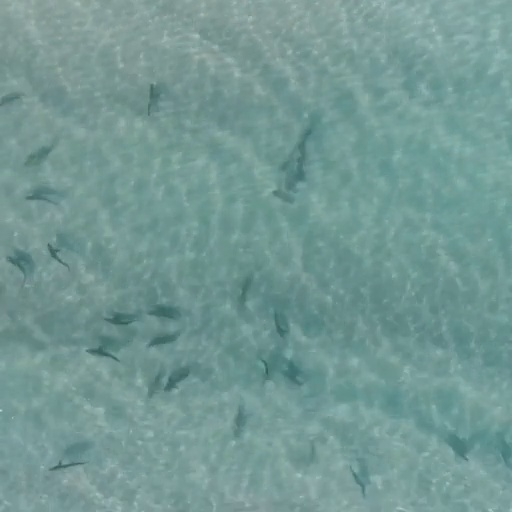shark: (275, 123, 319, 197)
